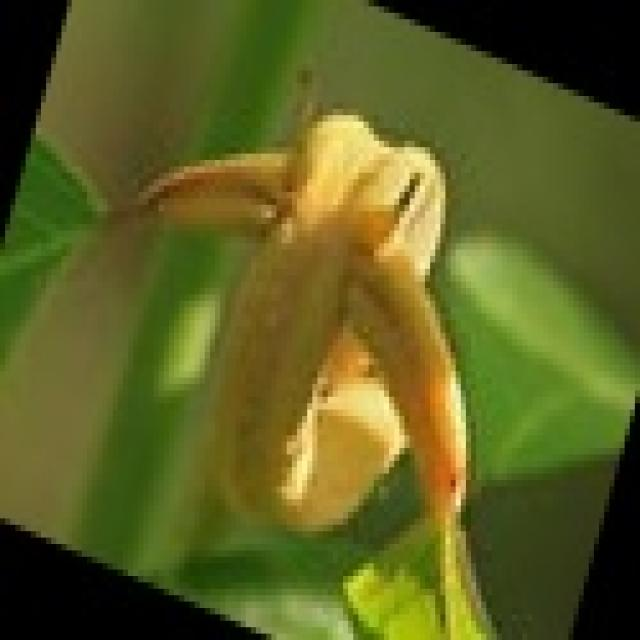Elderberry_rust: (223, 49, 429, 526)
